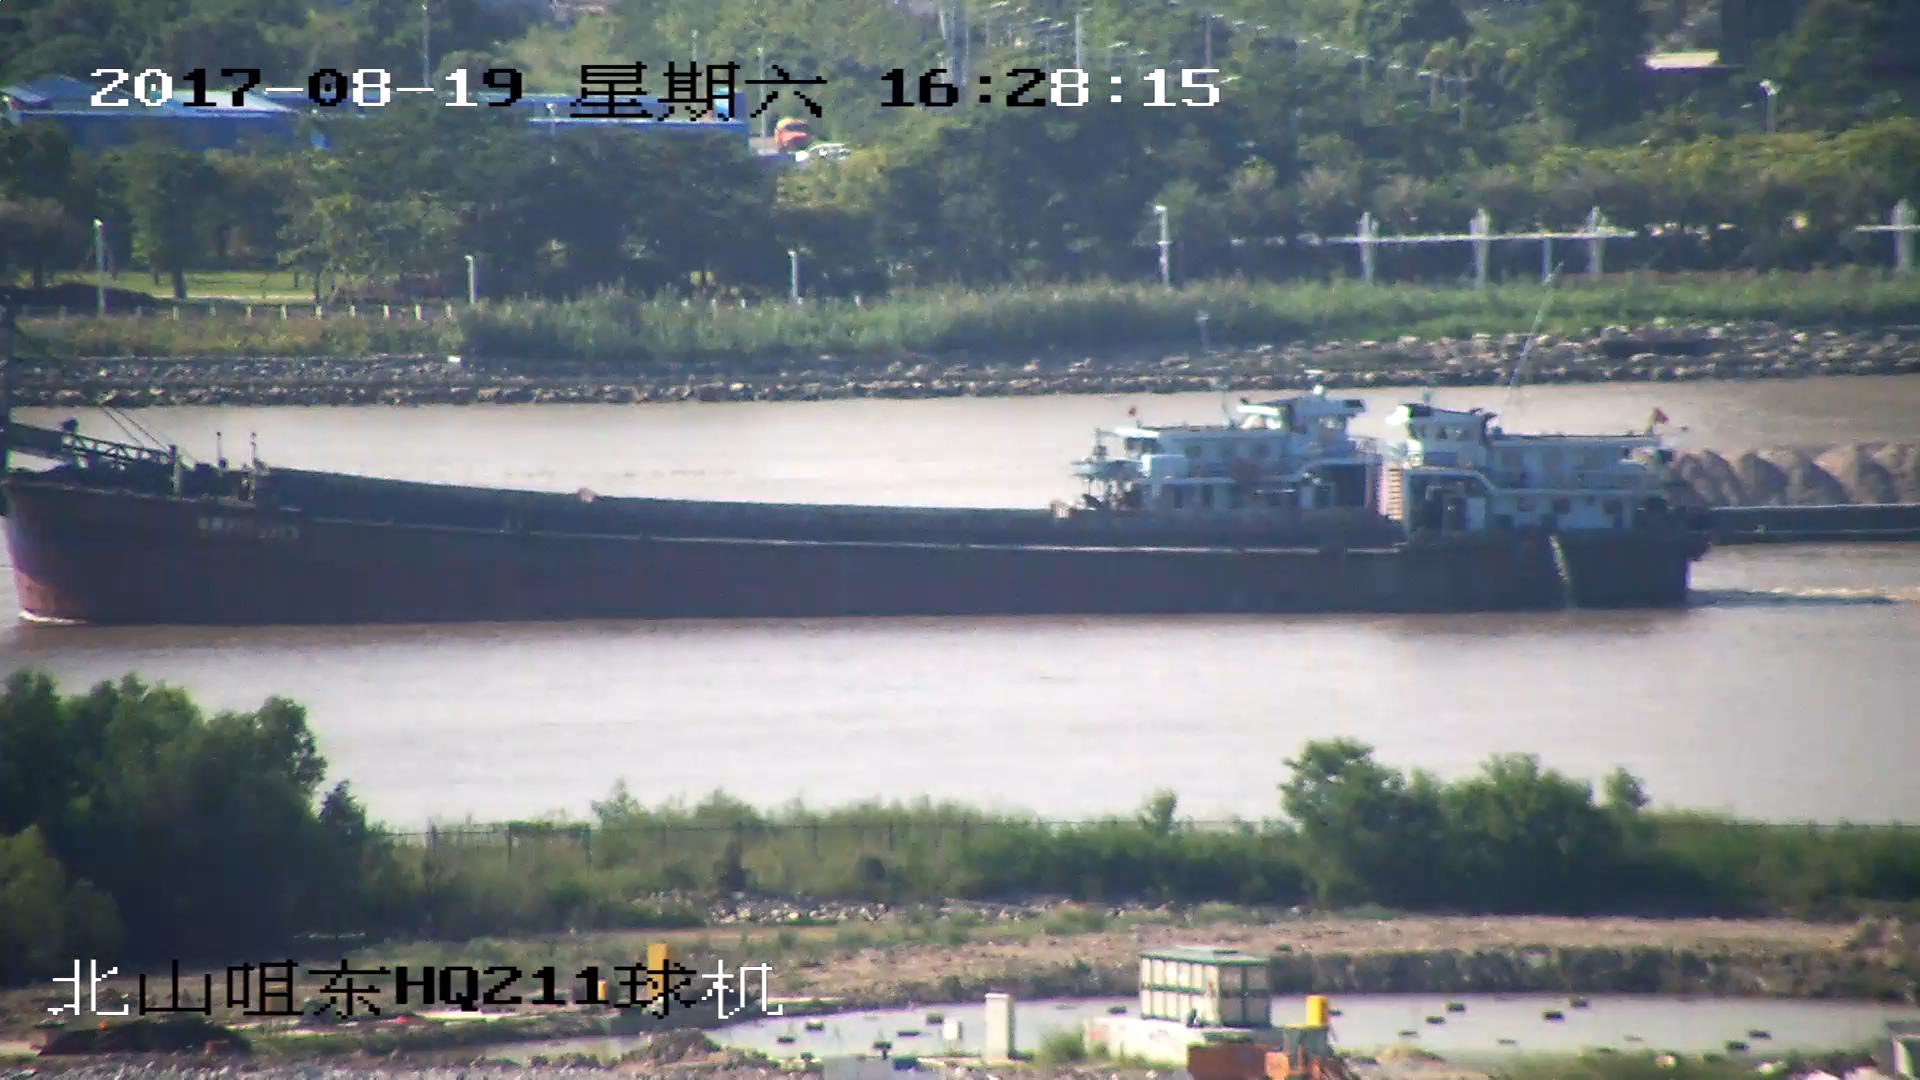bulk cargo carrier: (1, 390, 1701, 608)
ore carrier: (1071, 398, 1920, 546)
